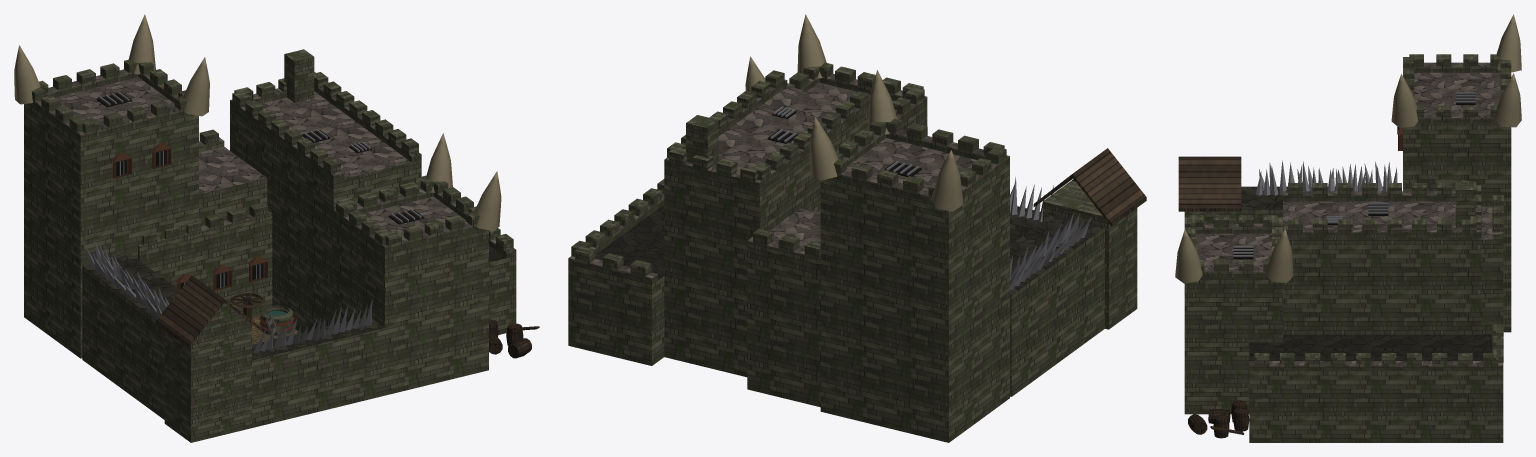
The model's file is Tarbuild04.glb.
3 renders of one model, left to right at view 1: azimuth 30°, elevation 25°; view 2: azimuth 150°, elevation 25°; view 3: azimuth 270°, elevation 25°, orthographic. The views are drawn at different scales.
Parts seen in each view (by area): view 1: Tarbuild04; view 2: Tarbuild04; view 3: Tarbuild04.
Part boxes in pixels (box(x1,y1,x2,y2)): Tarbuild04: box(14, 14, 539, 442); Tarbuild04: box(568, 14, 1146, 442); Tarbuild04: box(1175, 14, 1521, 442).
Size of the model in its own units: 20.52 by 14.54 by 17.46.
16 materials, 7 textured.
